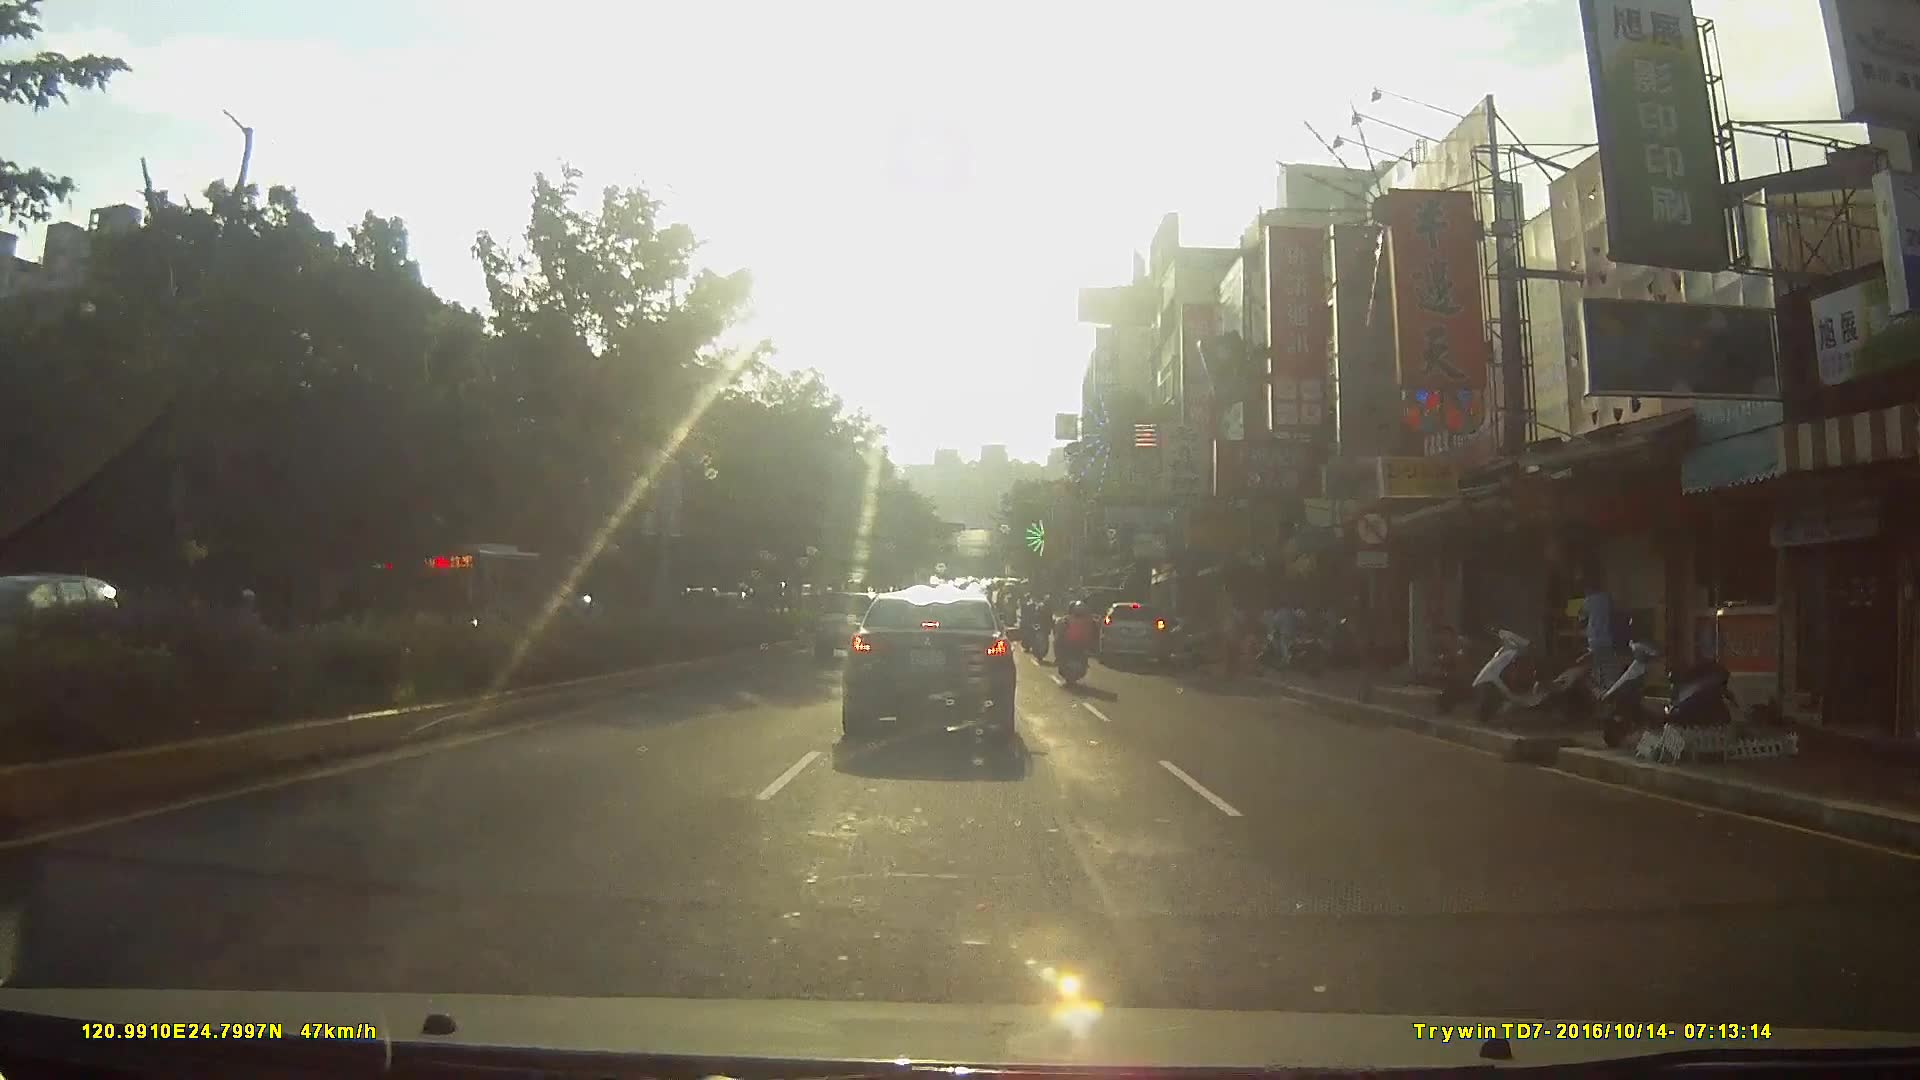pedestrian: (1567, 581, 1619, 699)
rider: (1056, 609, 1101, 706), (1025, 594, 1055, 666)
vehicle: (838, 589, 1033, 758), (1096, 602, 1181, 683)
